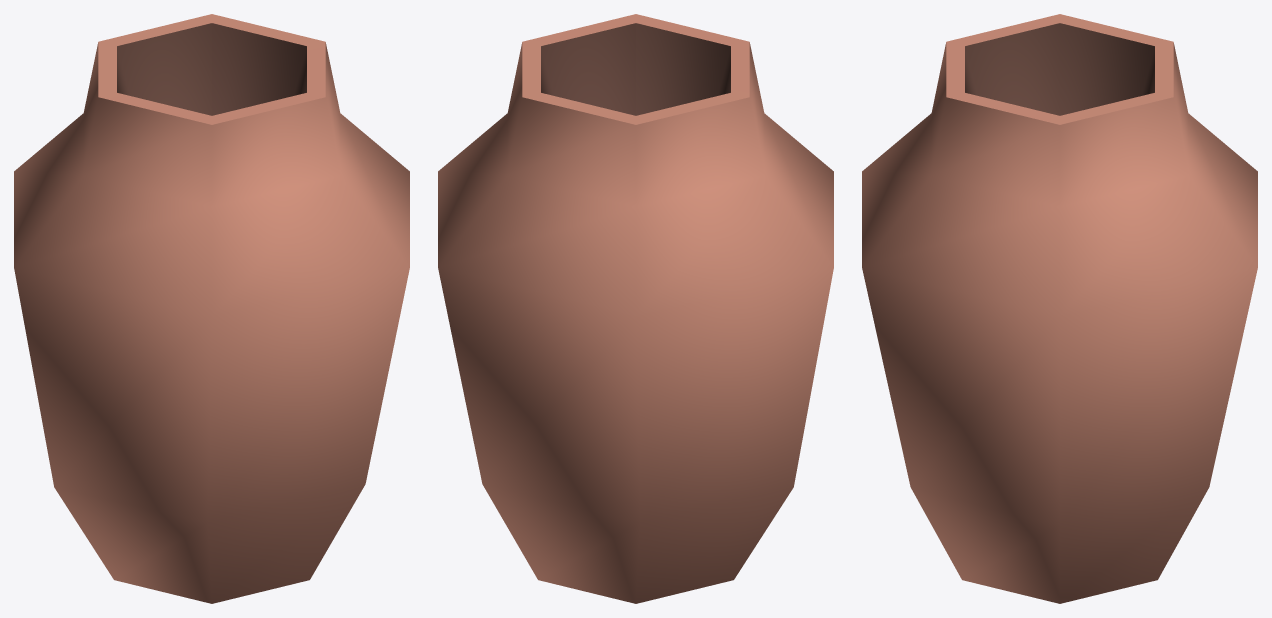
The model's file is jug_005.glb.
3 views of the same model, side by side, from view 1: azimuth 30°, elevation 25°; view 2: azimuth 150°, elevation 25°; view 3: azimuth 270°, elevation 25° (orthographic).
Visible parts, largest first — view 1: jug_005; view 2: jug_005; view 3: jug_005.
Boxes of the visible parts, box(x1,y1,x2,y2) form: jug_005: box(14, 14, 409, 603); jug_005: box(438, 14, 833, 603); jug_005: box(862, 14, 1257, 603).
Bounding box in the file's own units: 0.3821 × 0.449 × 0.3309.
1 material, 1 textured.
